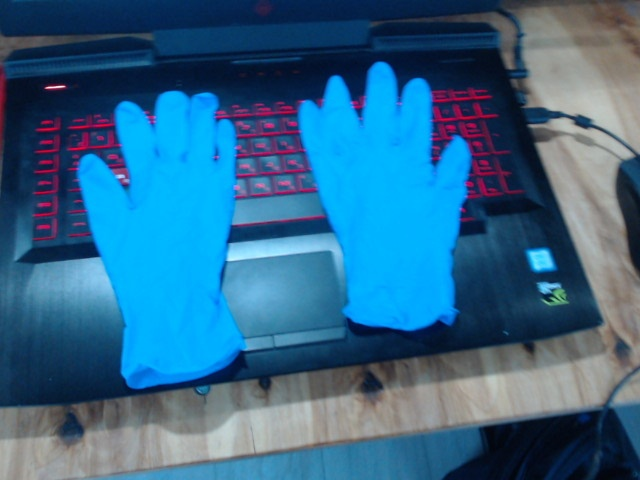medical_glove: (78, 89, 243, 387), (297, 61, 470, 332)
